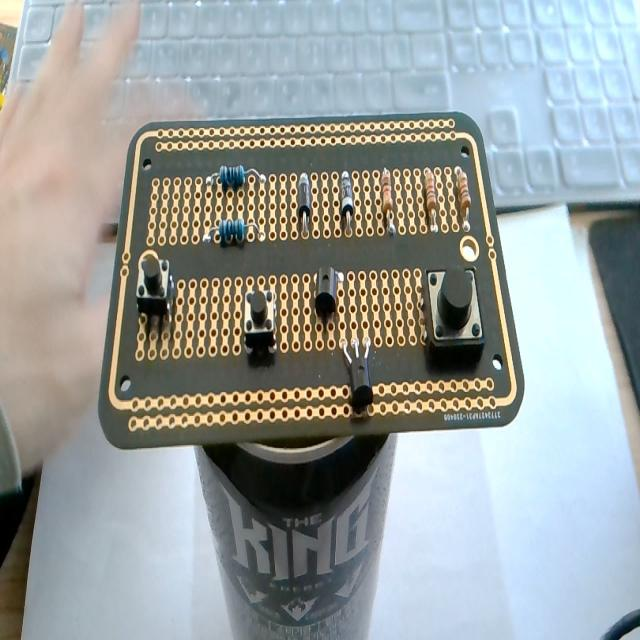diode: (297, 172, 311, 239), (340, 170, 354, 236)
resistor: (203, 218, 265, 246), (206, 163, 266, 190), (454, 165, 472, 232), (381, 168, 395, 234), (424, 168, 438, 230)
switch: (424, 264, 484, 351), (136, 250, 175, 332), (244, 286, 276, 354)
transistor: (336, 334, 380, 412), (314, 265, 341, 317)
